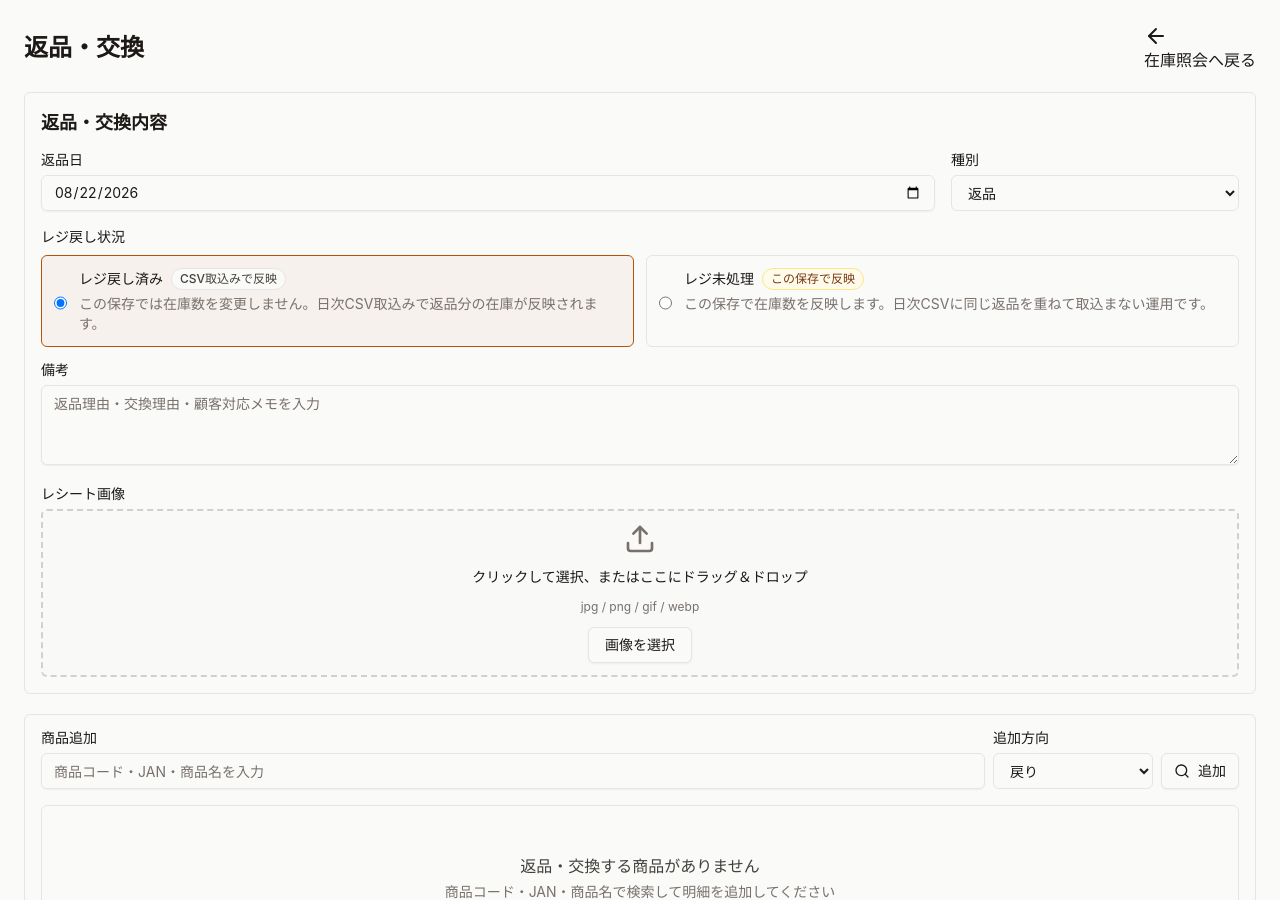
Scenario: ReturnExchangePage (UI-03 / REQ-202) › successful register-processed submit invalidates returns without stock keys
The width and height of the screenshot is (1280, 900).
Type "RT-001" into the dropdown named "返品・交換商品検索" at point(513, 771), box [41,753,985,789]
Then press Enter
(page scrolled)
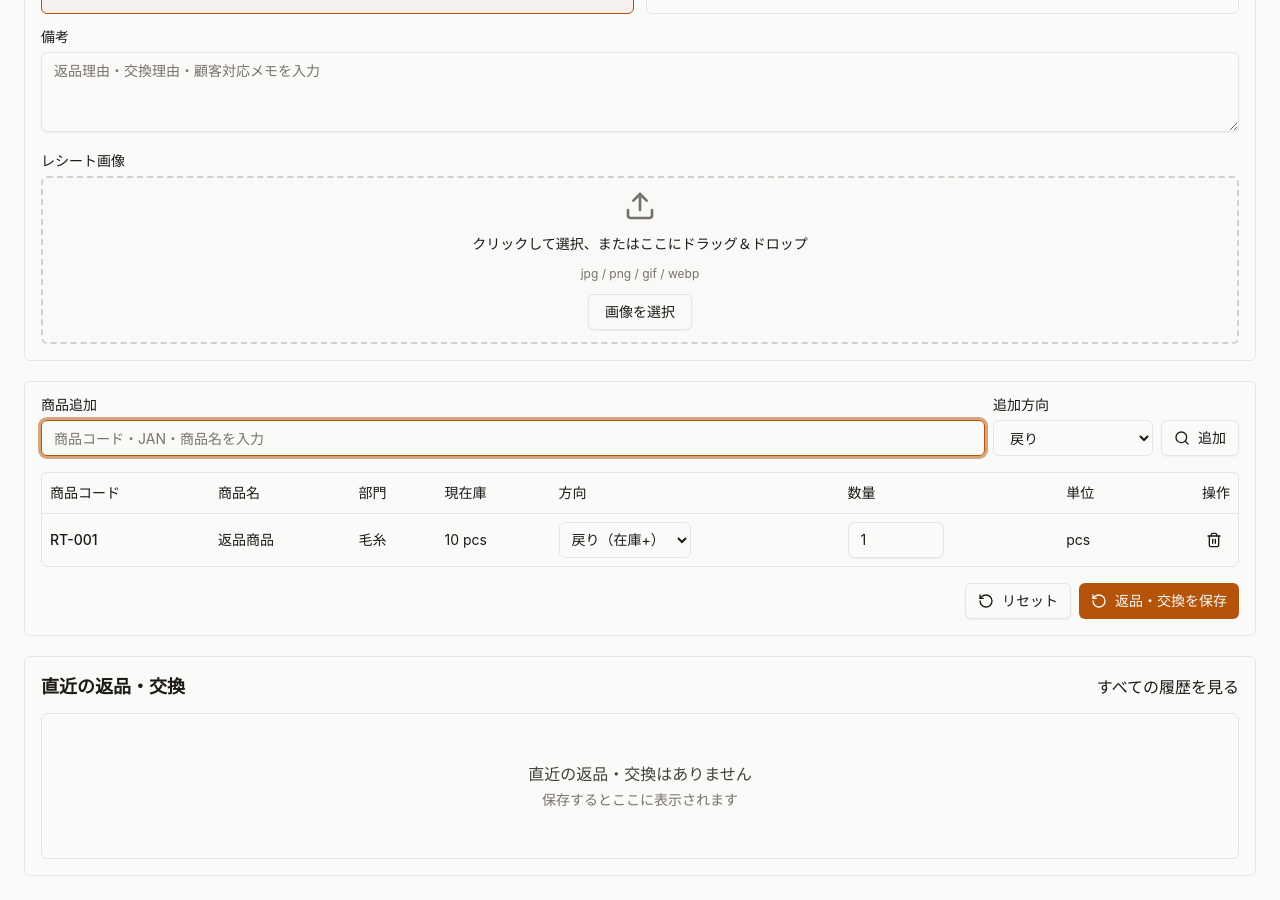
Check: the text "RT-001" is shown, box [42,513,210,566]
Click the button "返品・交換を保存" at point(1159, 600), box [1079,582,1239,618]
(page scrolled)
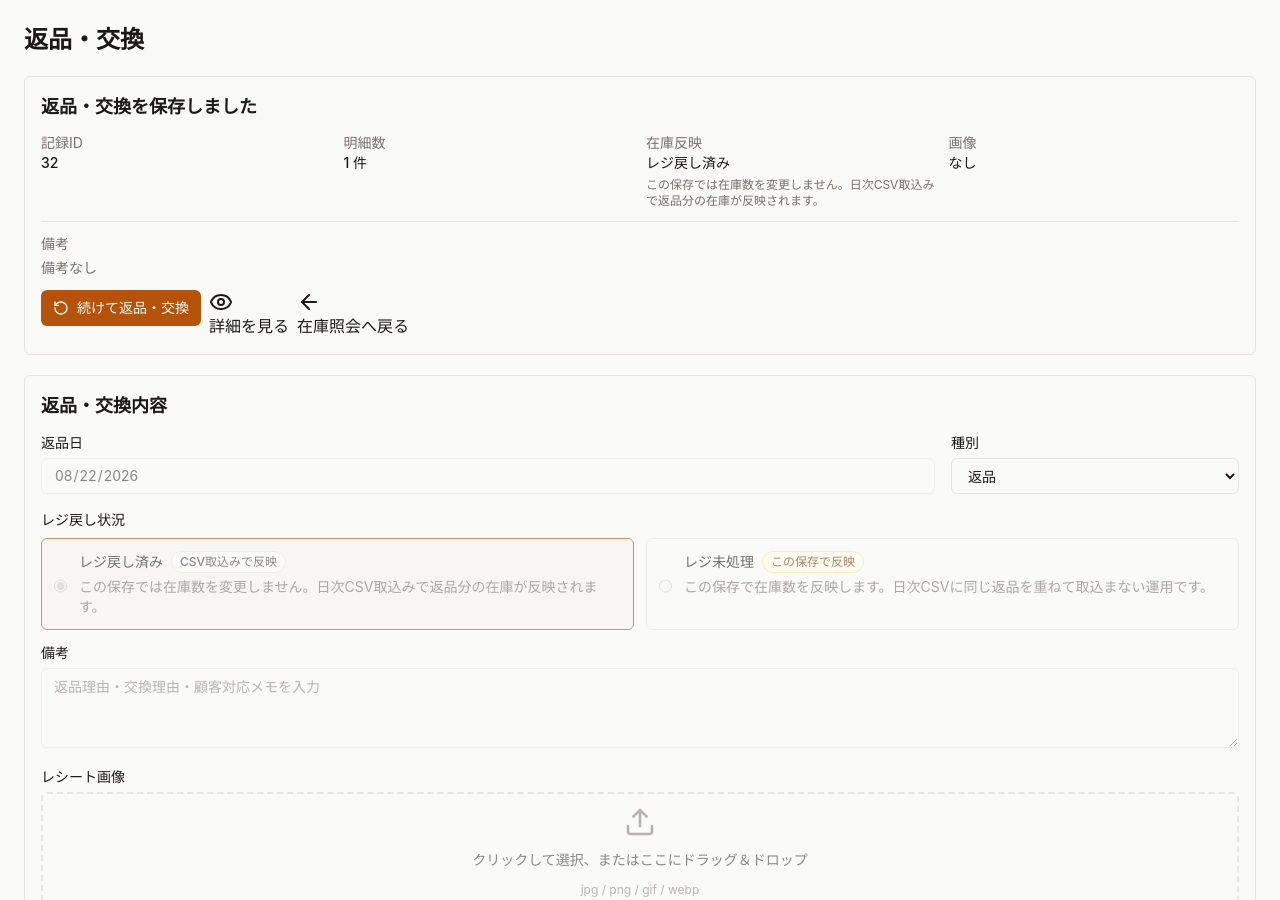
Check: the heading "返品・交換を保存しました" is shown, box [41,93,257,121]
Check: the text "備考なし" is shown, box [41,259,97,276]
Check: the text "この保存では在庫数を変更しません。日次CSV取込みで返品分の在庫が反映されます。" below "在庫反映" is shown, box [646,177,934,208]
